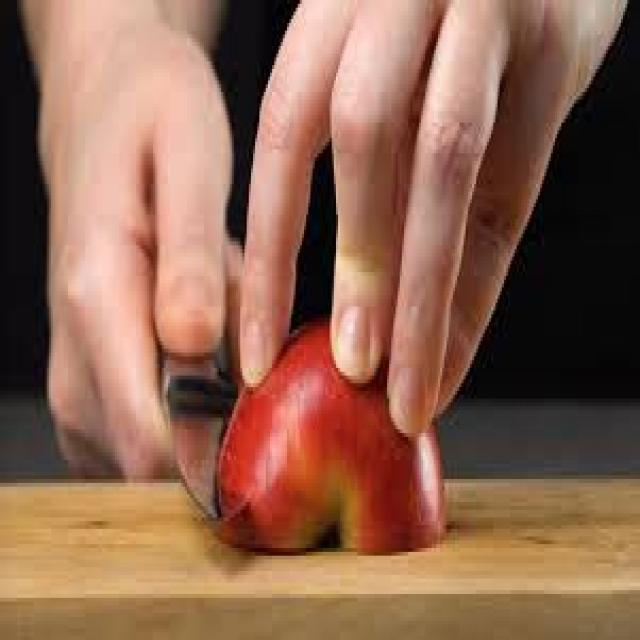Apple: (216, 331, 446, 554)
